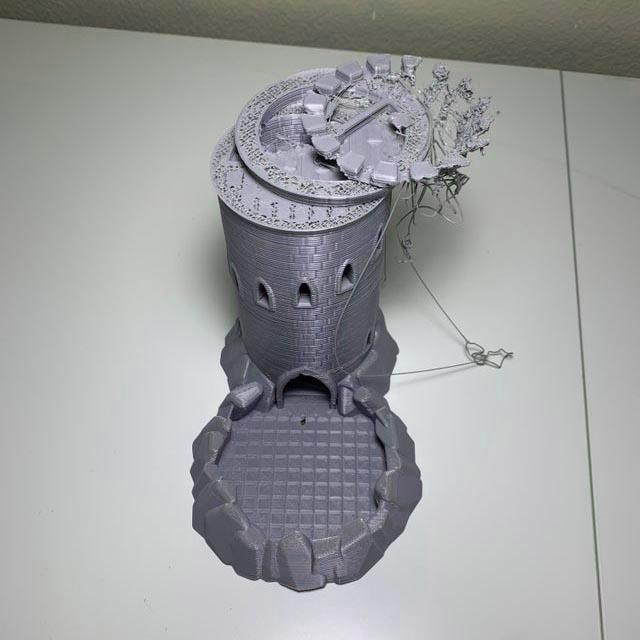spaghetti: (394, 60, 497, 267), (335, 210, 394, 379), (329, 75, 391, 133), (259, 130, 305, 156)
